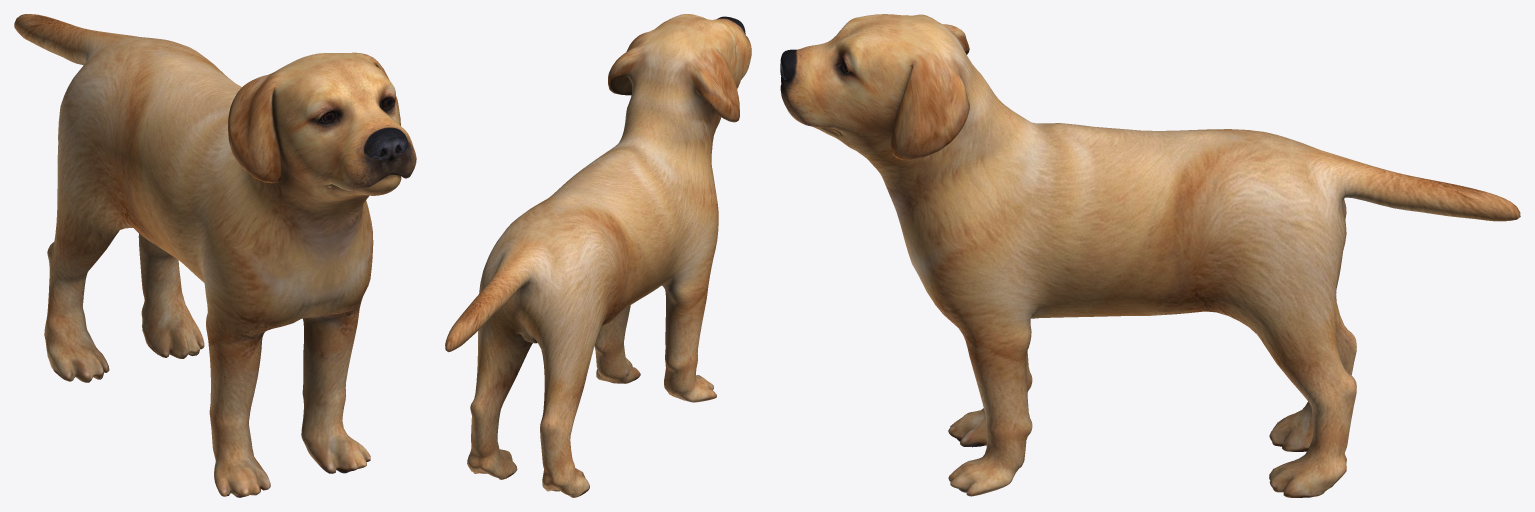
The model's file is 3d_dog_cute.glb.
3 renders of one model, left to right at view 1: azimuth 30°, elevation 25°; view 2: azimuth 150°, elevation 25°; view 3: azimuth 270°, elevation 25°, orthographic. The views are drawn at different scales.
Visible parts, largest first — view 1: node_id6; view 2: node_id6; view 3: node_id6.
Part boxes in pixels (left/top/right/bottom): node_id6: left=14, top=14, right=416, bottom=497; node_id6: left=445, top=14, right=751, bottom=497; node_id6: left=780, top=14, right=1520, bottom=497.
Size of the model in its own units: 0.1274 by 0.339 by 0.512.
1 material, 1 textured.
